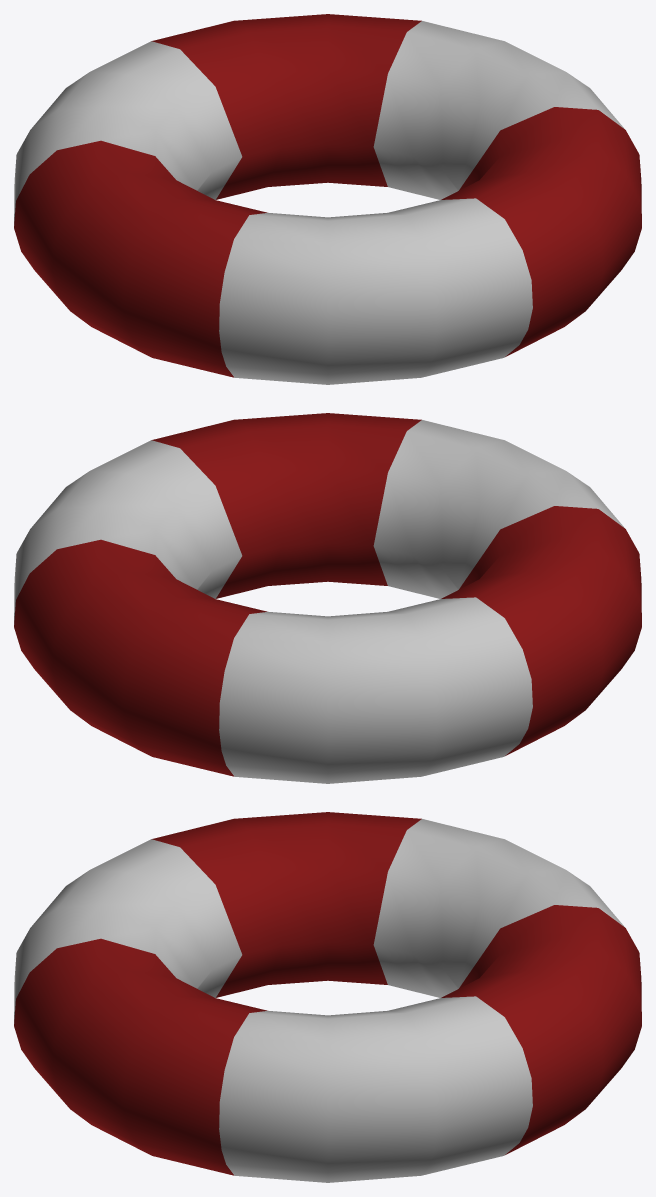
Rendered from LifeRing.FBX.
The picture shows the model from 3 angles, top to bottom: view 1: azimuth 30°, elevation 25°; view 2: azimuth 150°, elevation 25°; view 3: azimuth 270°, elevation 25°; orthographic projection.
Parts seen in each view (by area): view 1: Torus010; view 2: Torus010; view 3: Torus010.
Part boxes in pixels (x1,y1,x2,y2): Torus010: (14, 14, 641, 384); Torus010: (14, 413, 641, 783); Torus010: (14, 812, 641, 1182).
Bounding box in the file's own units: 145 × 143 × 38.44.
